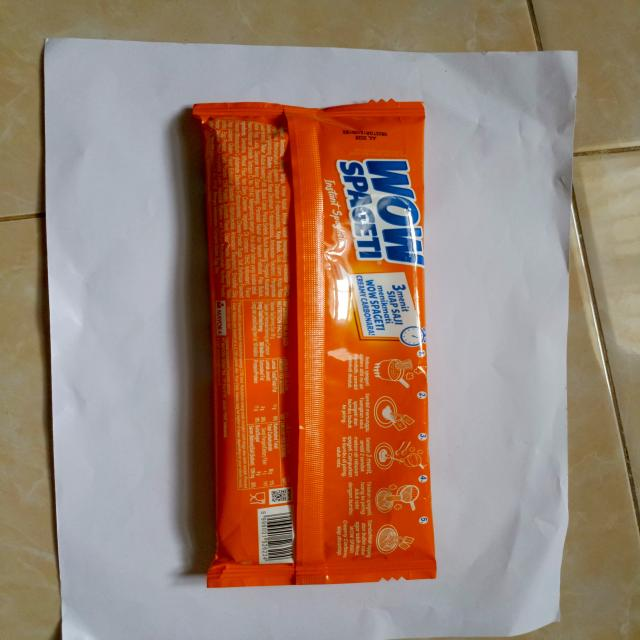indomie-tori-miso: (181, 98, 439, 590)
